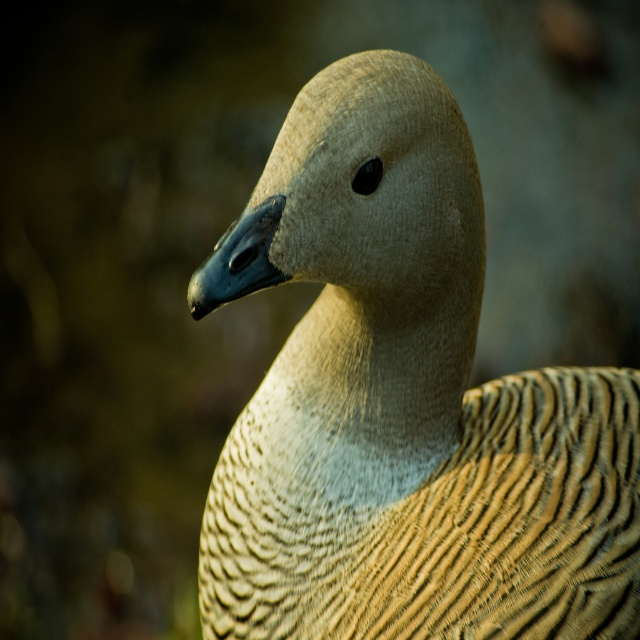Duck: (196, 45, 640, 639)
